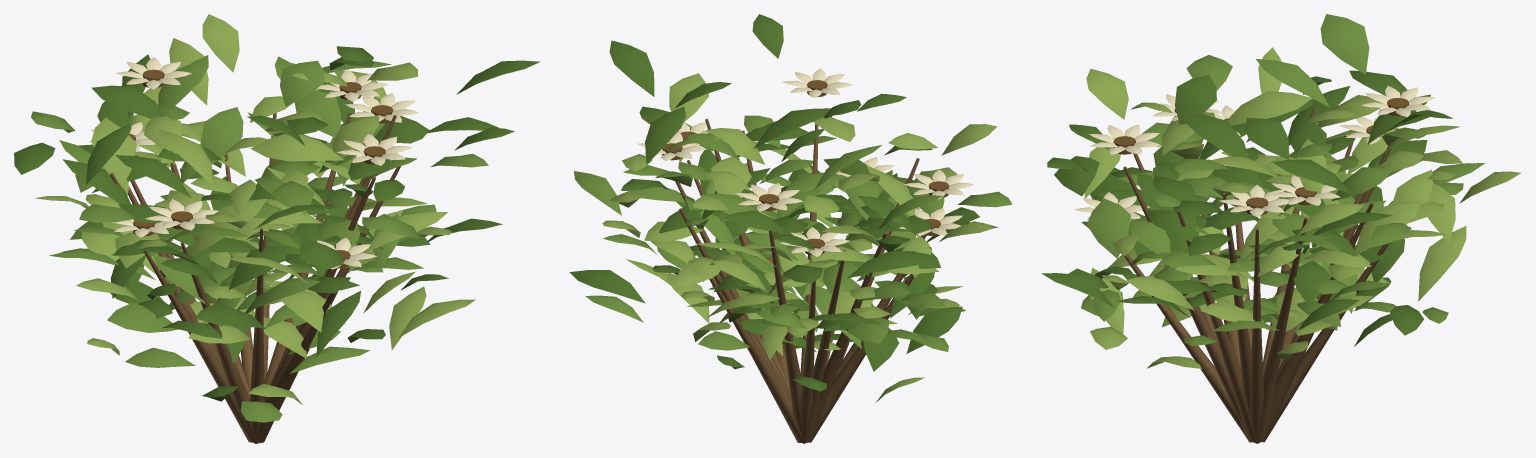
The model's file is shrub-flowering-080.glb.
The picture shows the model from 3 angles, left to right: view 1: azimuth 30°, elevation 25°; view 2: azimuth 150°, elevation 25°; view 3: azimuth 270°, elevation 25°; orthographic projection. The views are drawn at different scales.
Visible parts, largest first — view 1: shrub-flowering-080 / N05 / olive leaf shade, shrub-flowering-080 / N07 / sunlit young leaf, shrub-flowering-080 / N06 / olive leaf mid, shrub-flowering-080 / N03 / warm ridged bark, shrub-flowering-080 / N15 / ivory flower petals, shrub-flowering-080 / N16 / dark pollen; view 2: shrub-flowering-080 / N05 / olive leaf shade, shrub-flowering-080 / N07 / sunlit young leaf, shrub-flowering-080 / N06 / olive leaf mid, shrub-flowering-080 / N03 / warm ridged bark, shrub-flowering-080 / N15 / ivory flower petals, shrub-flowering-080 / N16 / dark pollen; view 3: shrub-flowering-080 / N07 / sunlit young leaf, shrub-flowering-080 / N05 / olive leaf shade, shrub-flowering-080 / N06 / olive leaf mid, shrub-flowering-080 / N03 / warm ridged bark, shrub-flowering-080 / N15 / ivory flower petals, shrub-flowering-080 / N16 / dark pollen.
Boxes of the visible parts, x1,y1,x2,y2 form: shrub-flowering-080 / N05 / olive leaf shade: (14, 46, 540, 401); shrub-flowering-080 / N07 / sunlit young leaf: (35, 14, 475, 404); shrub-flowering-080 / N06 / olive leaf mid: (31, 55, 488, 422); shrub-flowering-080 / N03 / warm ridged bark: (110, 100, 400, 443); shrub-flowering-080 / N15 / ivory flower petals: (89, 57, 419, 269); shrub-flowering-080 / N16 / dark pollen: (128, 69, 393, 268); shrub-flowering-080 / N05 / olive leaf shade: (569, 14, 998, 391); shrub-flowering-080 / N07 / sunlit young leaf: (602, 73, 997, 402); shrub-flowering-080 / N06 / olive leaf mid: (574, 115, 1012, 351); shrub-flowering-080 / N03 / warm ridged bark: (675, 118, 931, 443); shrub-flowering-080 / N15 / ivory flower petals: (637, 68, 973, 256); shrub-flowering-080 / N16 / dark pollen: (662, 80, 949, 255); shrub-flowering-080 / N07 / sunlit young leaf: (1084, 47, 1520, 368); shrub-flowering-080 / N05 / olive leaf shade: (1041, 70, 1452, 346); shrub-flowering-080 / N06 / olive leaf mid: (1081, 14, 1484, 345); shrub-flowering-080 / N03 / warm ridged bark: (1123, 109, 1398, 443); shrub-flowering-080 / N15 / ivory flower petals: (1074, 85, 1434, 220); shrub-flowering-080 / N16 / dark pollen: (1113, 98, 1408, 215).
Size of the model in its own units: 1.21 by 0.9148 by 1.09.
6 materials, 1 textured.
